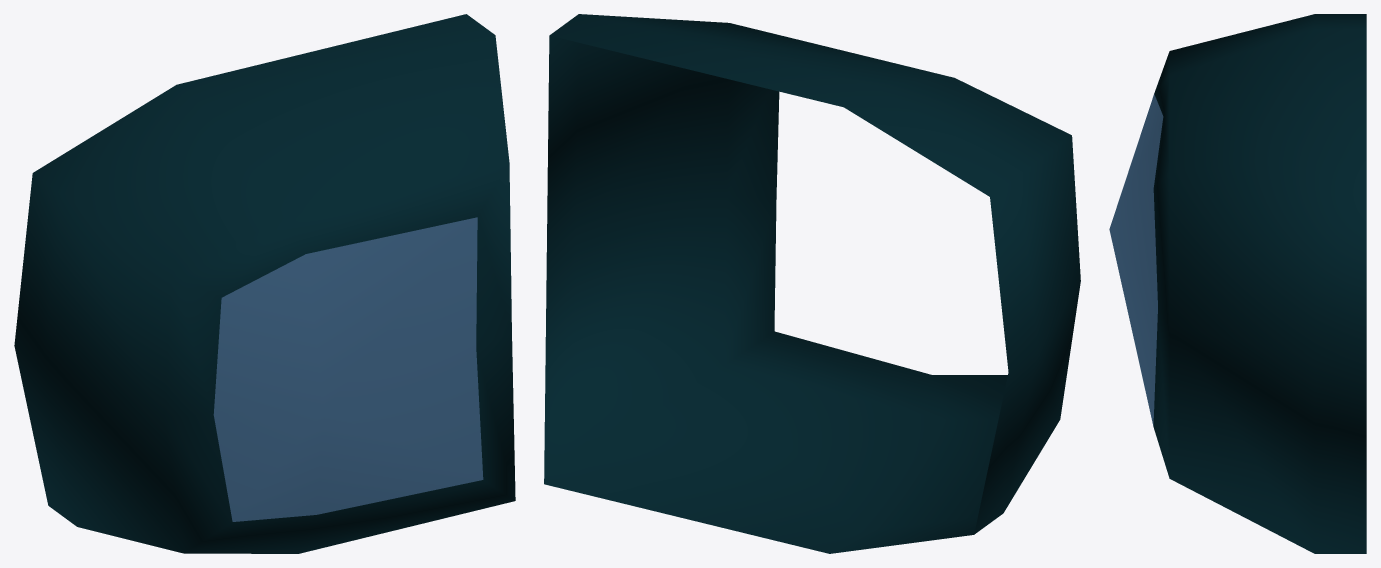
File: Button_Previous.glb
3 views of the same model, side by side, from view 1: azimuth 30°, elevation 25°; view 2: azimuth 150°, elevation 25°; view 3: azimuth 270°, elevation 25° (orthographic). The views are drawn at different scales.
Parts seen in each view (by area): view 1: ButtonPreview; view 2: ButtonPreview; view 3: ButtonPreview.
Boxes of the visible parts, box(x1,y1,x2,y2) form: ButtonPreview: box(14, 14, 515, 553); ButtonPreview: box(544, 14, 1080, 553); ButtonPreview: box(1109, 14, 1366, 553).
Size of what is drawn, in the model's own units: 0.1834 by 0.1699 by 0.1.
Materials: 2 (2 with a texture image).
